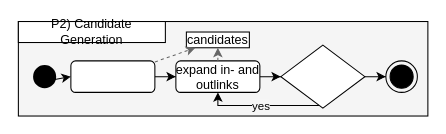
Image size: 446x134. Some labels were removed from this diagram. The shapes that lost their labels are listed below. From the top down, each one's centre as x and y in pixels, then its label:
At pixel 112 76: "search for candidates".
At pixel 322 76: "new candidates found?".
